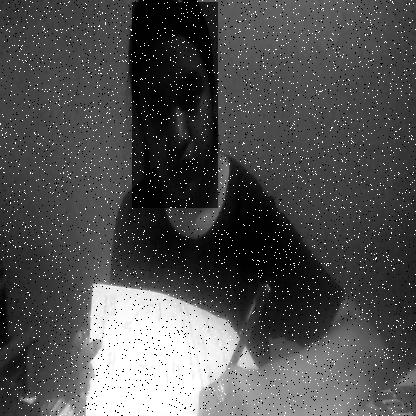Normal: (132, 2, 218, 208)
